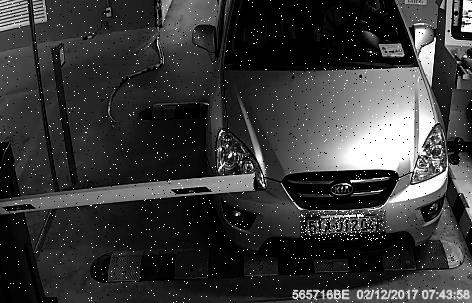License-plate: (301, 212, 387, 242)
